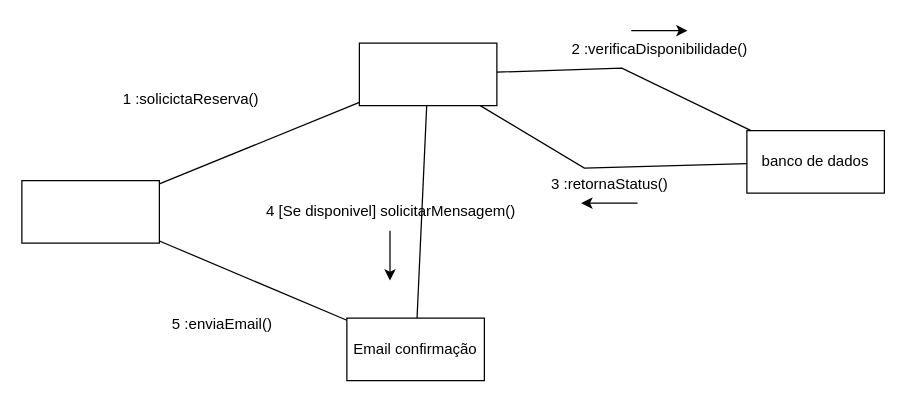
The diagram is 906 pixels wide and 403 high, and some of its shapes have lost their labels. Each missing label, with the centre of its shape:
Cliente: point 90,211
Reserva: point 427,74
